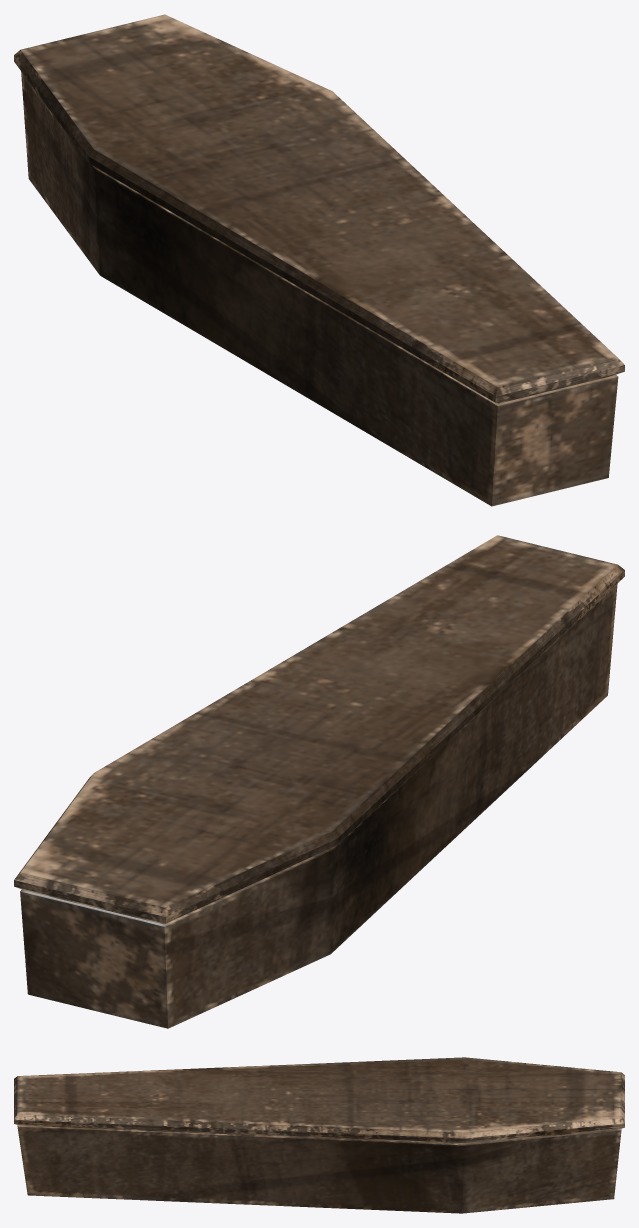
The model's file is Caixao_NEC_CENA.fbx.
The picture shows the model from 3 angles, top to bottom: view 1: azimuth 30°, elevation 25°; view 2: azimuth 150°, elevation 25°; view 3: azimuth 270°, elevation 25°; orthographic projection. The views are drawn at different scales.
Parts seen in each view (by area): view 1: Tampa_Caixao, Caixao; view 2: Tampa_Caixao, Caixao; view 3: Tampa_Caixao, Caixao.
Boxes of the visible parts, left/top/right/bottom form: Tampa_Caixao: left=14, top=14, right=624, bottom=403; Caixao: left=21, top=71, right=618, bottom=506; Tampa_Caixao: left=14, top=535, right=624, bottom=924; Caixao: left=20, top=584, right=617, bottom=1028; Tampa_Caixao: left=14, top=1057, right=624, bottom=1143; Caixao: left=17, top=1125, right=621, bottom=1213.
Bounding box in the file's own units: 63.16 × 30.58 × 207.
Materials: 1 (1 with a texture image).
